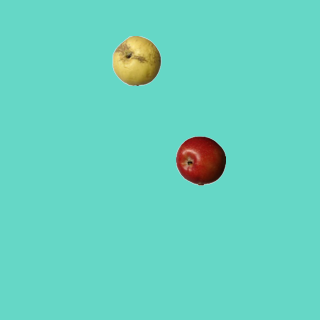Apple Braeburn: (175, 135, 225, 185)
Apple Golden 1: (111, 35, 161, 85)
